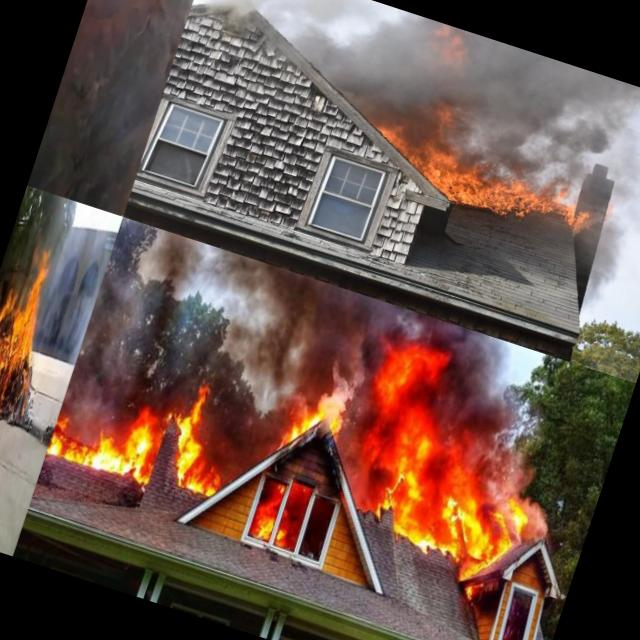fire: (368, 130, 604, 247), (27, 11, 153, 208), (359, 427, 482, 556), (45, 391, 166, 492), (367, 331, 462, 441), (0, 254, 60, 421), (451, 482, 531, 572), (166, 398, 242, 491), (273, 386, 339, 465), (254, 487, 310, 551)
smoke: (373, 13, 640, 228), (60, 222, 220, 448), (193, 250, 414, 404), (64, 0, 208, 217), (92, 0, 210, 151), (413, 324, 534, 460), (274, 0, 409, 115), (33, 213, 120, 368), (220, 366, 296, 498), (563, 208, 640, 314), (195, 0, 307, 57), (478, 440, 546, 533), (498, 470, 566, 557), (320, 415, 389, 500), (46, 200, 82, 268)
